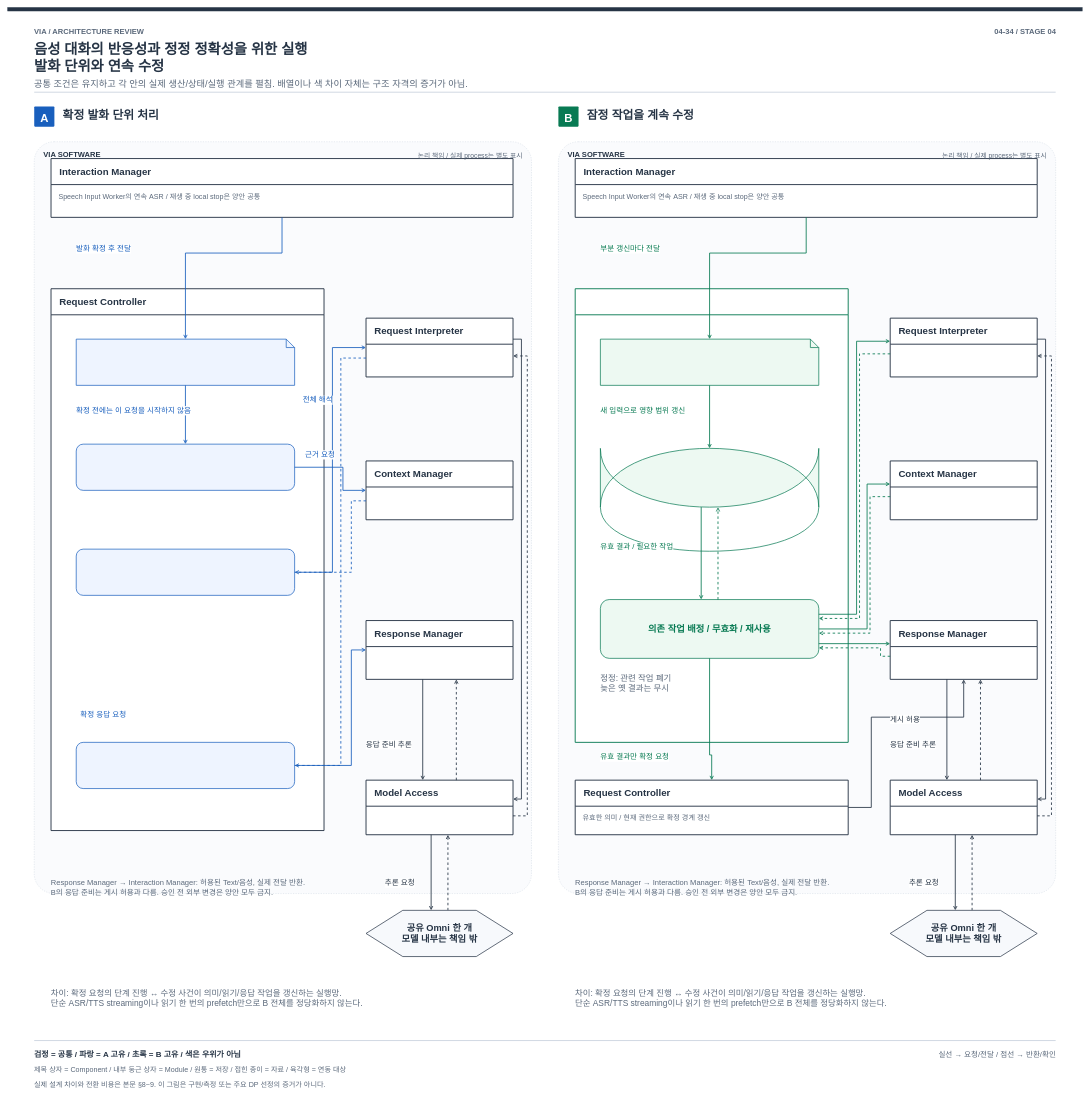
The diagram is 1089 pixels wide and 1098 high, and some of its shapes have lost their labels. Each missing label, with the box of its shape:
Incremental Interaction Runtime: (575, 288, 848, 743)
근거 읽기 조정: (76, 444, 295, 491)
부분 발화 / 수정 버전: (600, 339, 819, 386)
잠정 의미 / 읽기 / 응답의 의존 그래프 (RAM): (600, 448, 819, 507)
현재 의미 / 권한 확정: (76, 742, 295, 789)
확정 발화 / 요청 버전: (76, 339, 295, 386)
확정 요청 해석: (76, 549, 295, 596)
